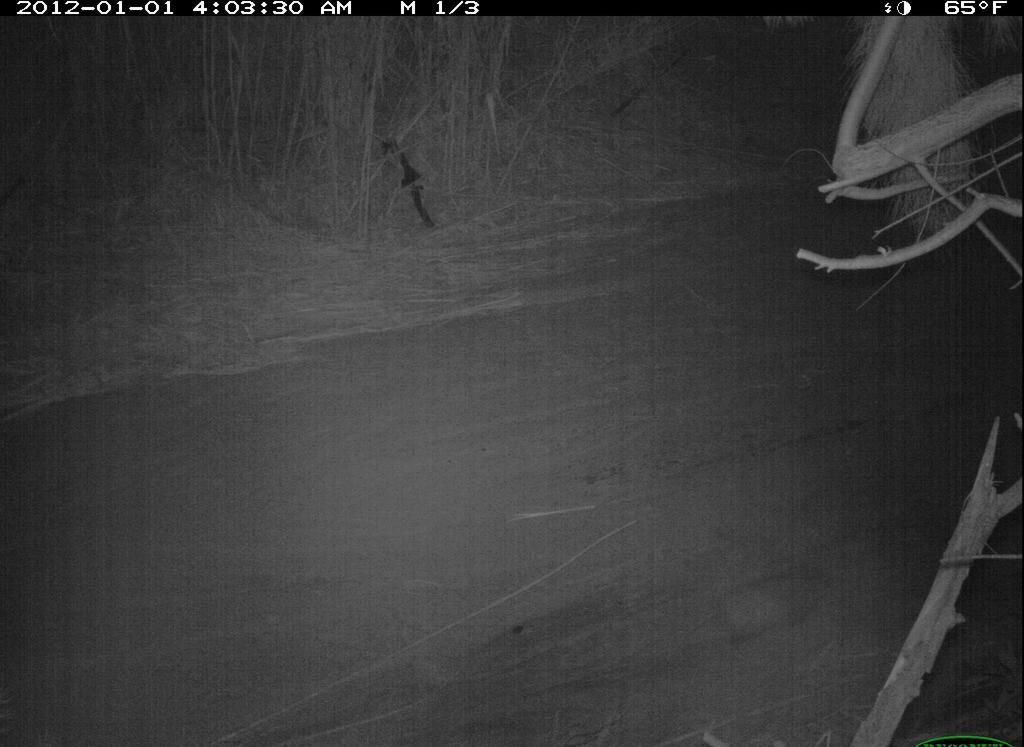opossum: (666, 553, 850, 664)
